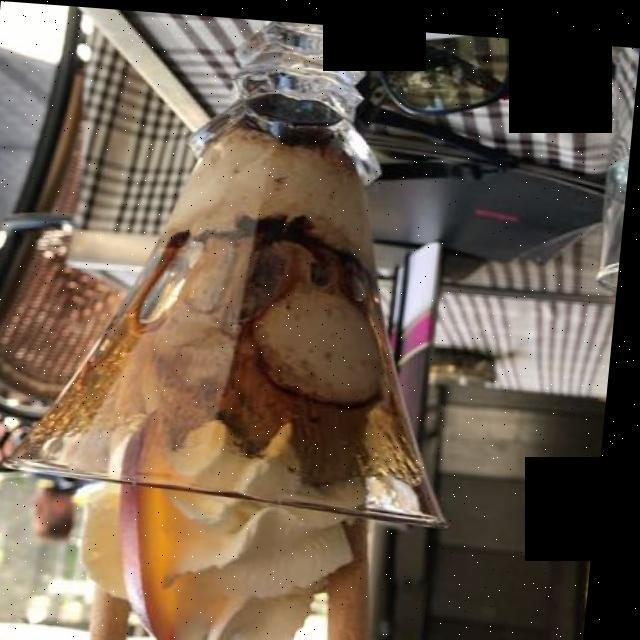biscuits: (342, 525, 385, 640), (105, 590, 160, 640)
cream: (102, 417, 353, 640)
